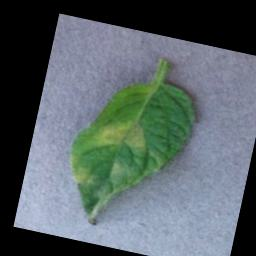Leaf_Mold: (94, 114, 150, 158), (68, 162, 98, 189)
